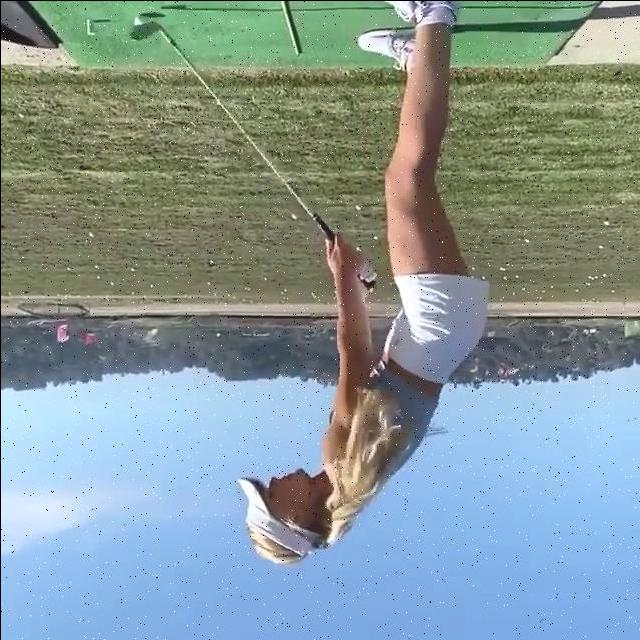golf ball: (132, 12, 146, 26)
golf club-handle: (126, 19, 372, 290)
golf club-head: (132, 25, 157, 43)
